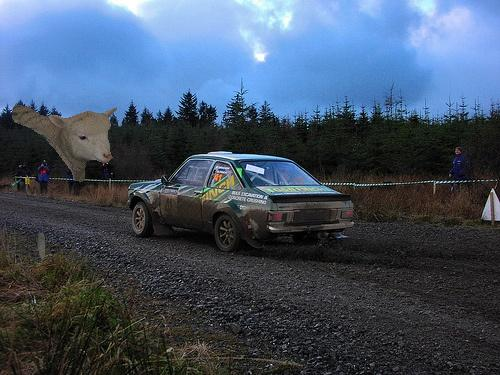tampered: (13, 106, 117, 260)
